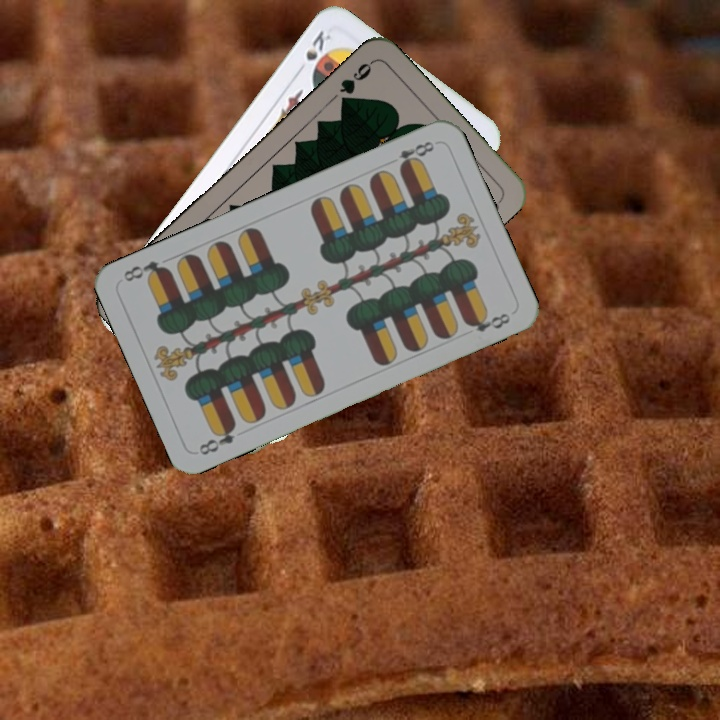E8: (194, 419, 239, 458), (395, 137, 437, 173)
G9: (334, 57, 376, 109)
SK: (292, 26, 334, 78)
